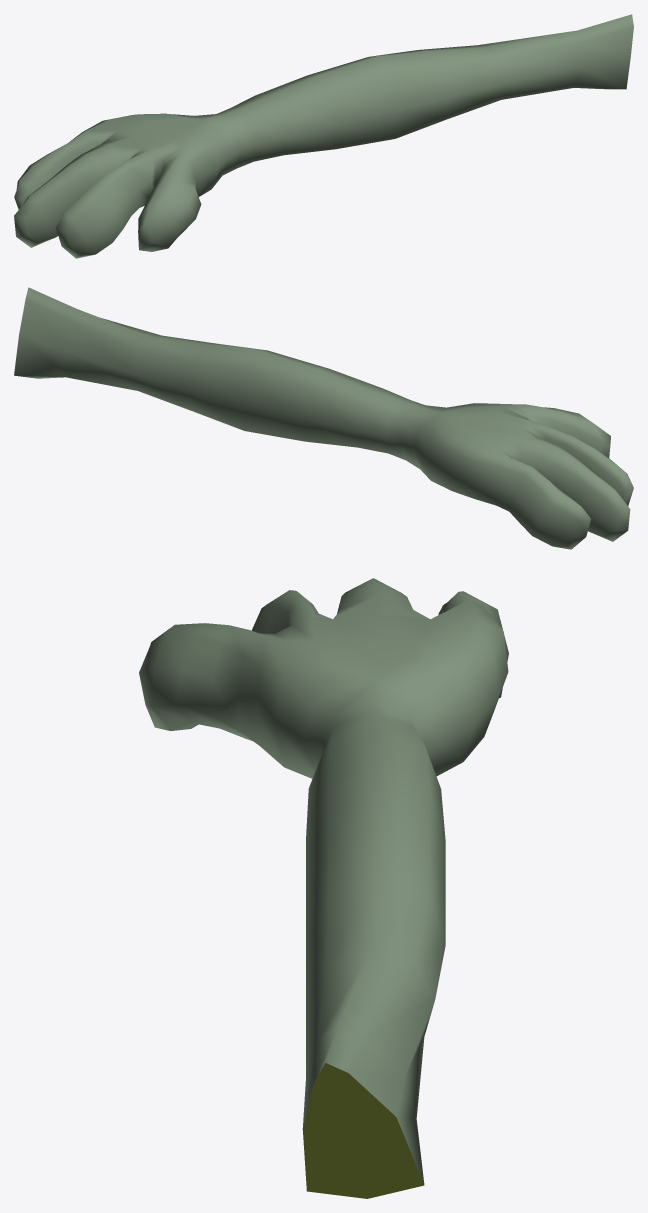
Rendered from GreenRightArm.fbx.
The picture shows the model from 3 angles, top to bottom: view 1: azimuth 30°, elevation 25°; view 2: azimuth 150°, elevation 25°; view 3: azimuth 270°, elevation 25°; orthographic projection. The views are drawn at different scales.
Parts seen in each view (by area): view 1: polySurface3; view 2: polySurface3; view 3: polySurface3.
Boxes of the visible parts, x1,y1,x2,y2 form: polySurface3: (14,14,633,258); polySurface3: (14,287,633,549); polySurface3: (139,578,508,1198).
Size of the model in its own units: 105 by 17.51 by 27.89.
